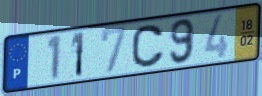1: (45, 33, 63, 85), (70, 30, 86, 81)
4: (203, 12, 230, 60)
7: (99, 24, 130, 77)
9: (169, 17, 197, 66)
C: (130, 23, 166, 70)
